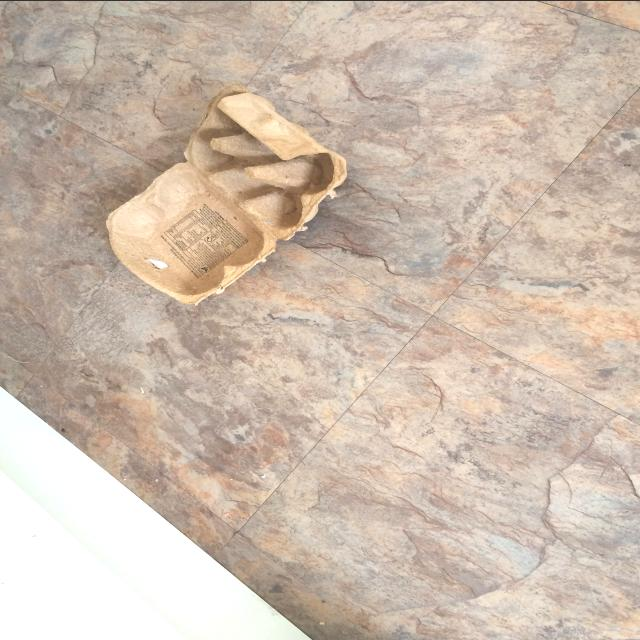Egg carton: (106, 81, 347, 305)
